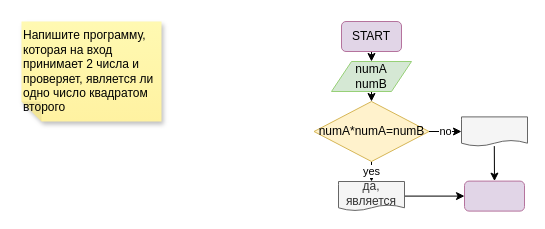
This 545x229 diagram has some shape labels left out. The shapes that lost their labels are listed below. From the top down, each one's centre as x and y in pixels, then its label:
At (494,131): "нет, не является".
At (494,195): "FINISH".
